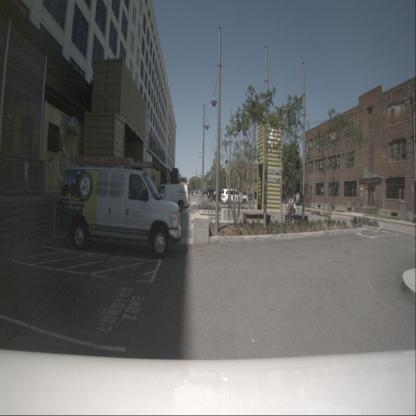human-pedestrian-adult: (288, 196, 296, 218)
vehicle-car: (59, 156, 182, 258), (153, 183, 190, 213), (221, 188, 248, 207), (213, 190, 228, 201)
